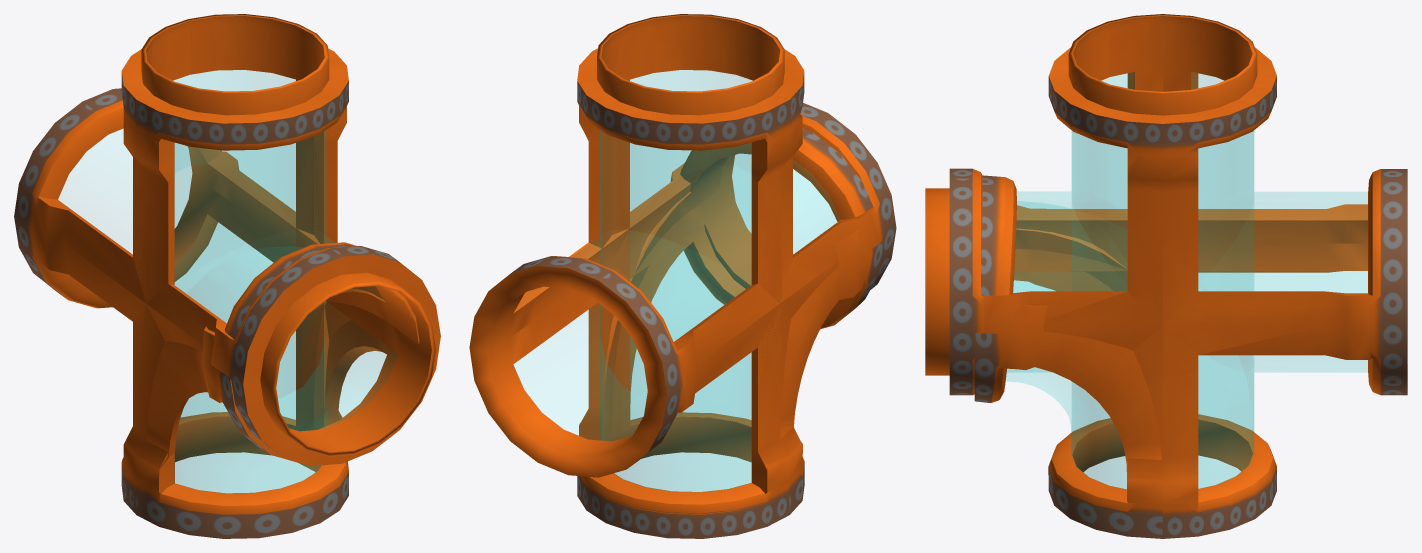
File: Tubing_V2.fbx
The picture shows the model from 3 angles, left to right: view 1: azimuth 30°, elevation 25°; view 2: azimuth 150°, elevation 25°; view 3: azimuth 270°, elevation 25°; orthographic projection.
Parts seen in each view (by area): view 1: Pipe_Straight_Tubing1, Pipe_Straight_Tubing (×2), Pipe_Straight_Glass (×2), Pipe_Straight_Glass1; view 2: Pipe_Straight_Tubing (×2), Pipe_Straight_Tubing1, Pipe_Straight_Glass, Pipe_Straight_Glass1; view 3: Pipe_Straight_Tubing (×2), Pipe_Straight_Tubing1, Pipe_Straight_Glass (×2), Pipe_Straight_Glass1.
Part boxes in pixels (box(x1,y1,x2,y2)): Pipe_Straight_Tubing1: box(14, 16, 440, 524); Pipe_Straight_Tubing (×2): box(121, 14, 419, 538); Pipe_Straight_Glass (×2): box(175, 131, 331, 430); Pipe_Straight_Glass1: box(175, 131, 333, 430); Pipe_Straight_Tubing (×2): box(577, 14, 883, 538); Pipe_Straight_Tubing1: box(469, 16, 896, 526); Pipe_Straight_Glass: box(600, 131, 751, 425); Pipe_Straight_Glass1: box(573, 131, 751, 440); Pipe_Straight_Tubing (×2): box(974, 14, 1276, 538); Pipe_Straight_Tubing1: box(925, 16, 1407, 511); Pipe_Straight_Glass (×2): box(1006, 131, 1253, 453); Pipe_Straight_Glass1: box(1007, 131, 1367, 421).
Size of the model in its own units: 150 by 317 by 317.
2 materials, 1 textured.
